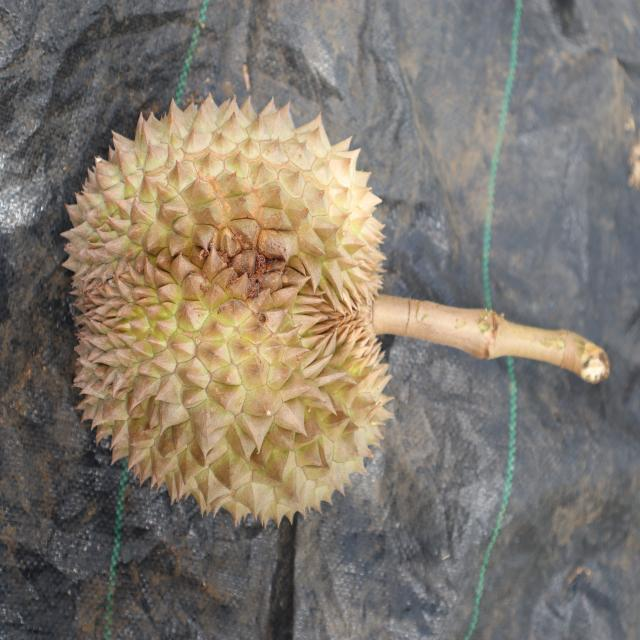mature: (60, 95, 398, 524)
